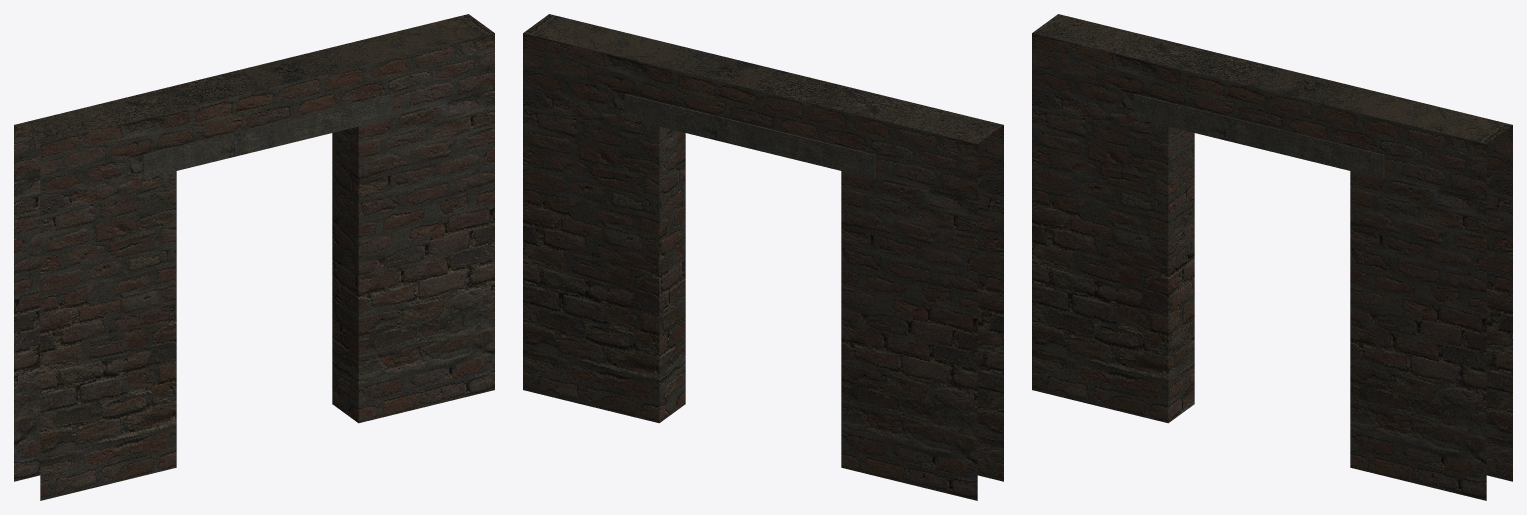
The model's file is doorway_hr_2_wide.glb.
3 renders of one model, left to right at view 1: azimuth 30°, elevation 25°; view 2: azimuth 150°, elevation 25°; view 3: azimuth 330°, elevation 25°, orthographic.
Parts seen in each view (by area): view 1: doorway_hr_2_wide; view 2: doorway_hr_2_wide; view 3: doorway_hr_2_wide.
Part boxes in pixels (<box>): doorway_hr_2_wide: <box>14,14,494,500</box>; doorway_hr_2_wide: <box>523,14,1003,500</box>; doorway_hr_2_wide: <box>1032,14,1512,500</box>.
Bounding box in the file's own units: 4 × 3 × 0.42.
Materials: 3 (3 with a texture image).
